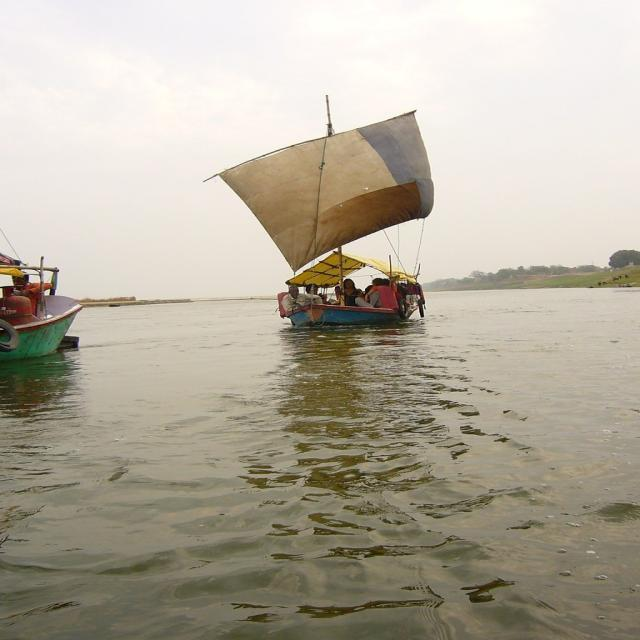boat: (275, 249, 423, 335)
